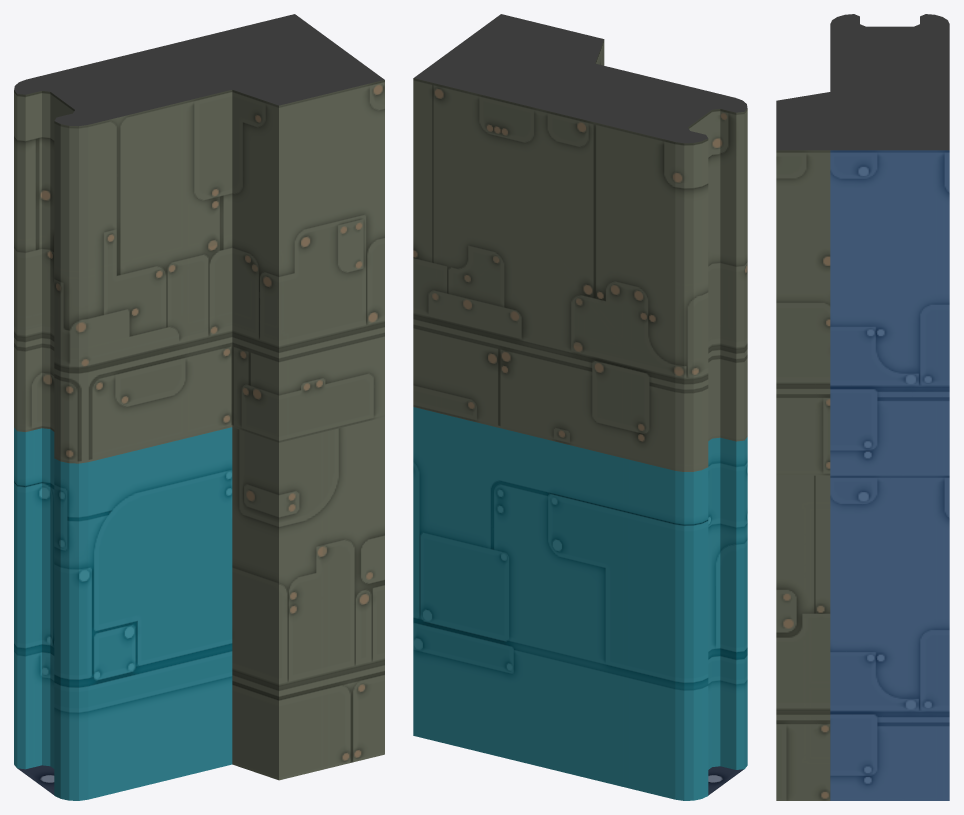
Rendered from Env_Cnt_WallExterior_Pillar_R_Top.fbx.
3 renders of one model, left to right at view 1: azimuth 30°, elevation 25°; view 2: azimuth 150°, elevation 25°; view 3: azimuth 270°, elevation 25°, orthographic. The views are drawn at different scales.
Parts seen in each view (by area): view 1: Wall_Exterior_Pillar_R_Top, Wall_Exterior_Pillar_R; view 2: Wall_Exterior_Pillar_R_Top, Wall_Exterior_Pillar_R; view 3: Wall_Exterior_Pillar_R_Top, Wall_Exterior_Pillar_R.
Part boxes in pixels (<box>): Wall_Exterior_Pillar_R_Top: <box>14,14,384,463</box>; Wall_Exterior_Pillar_R: <box>14,417,384,800</box>; Wall_Exterior_Pillar_R_Top: <box>413,14,747,471</box>; Wall_Exterior_Pillar_R: <box>413,407,747,800</box>; Wall_Exterior_Pillar_R_Top: <box>776,14,949,475</box>; Wall_Exterior_Pillar_R: <box>776,475,949,800</box>.
Bounding box in the file's own units: 89.98 × 200 × 48.32.
